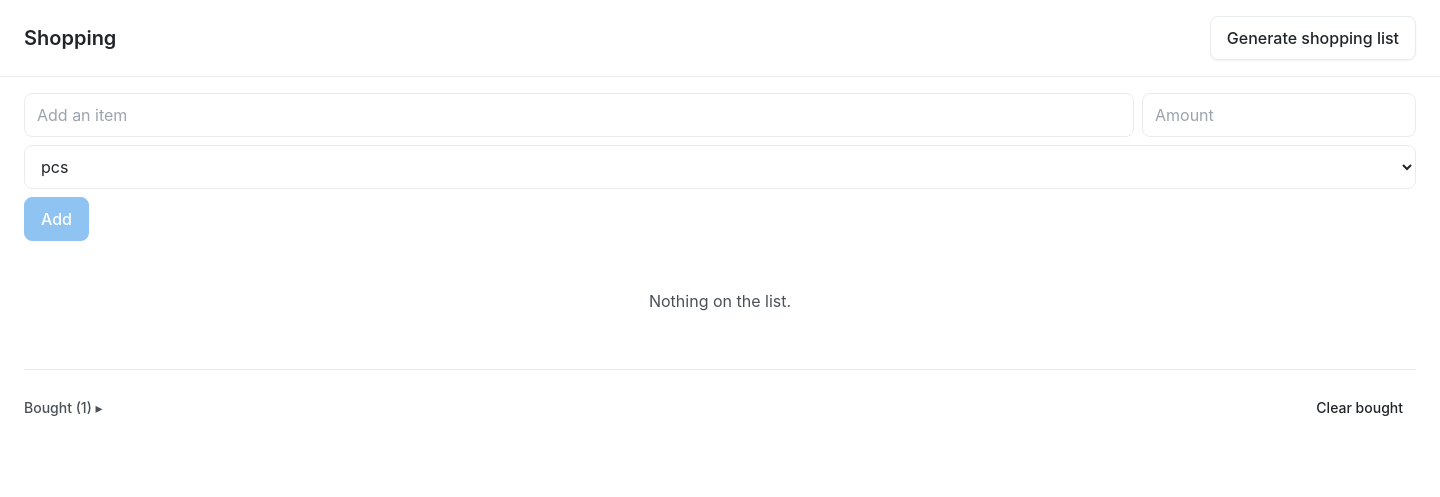
Test: The Shopping screen › expands the bought section on tap
The width and height of the screenshot is (1440, 497).
Click the button "Bought (1) ▸" at (63, 408), box [24,386,103,430]
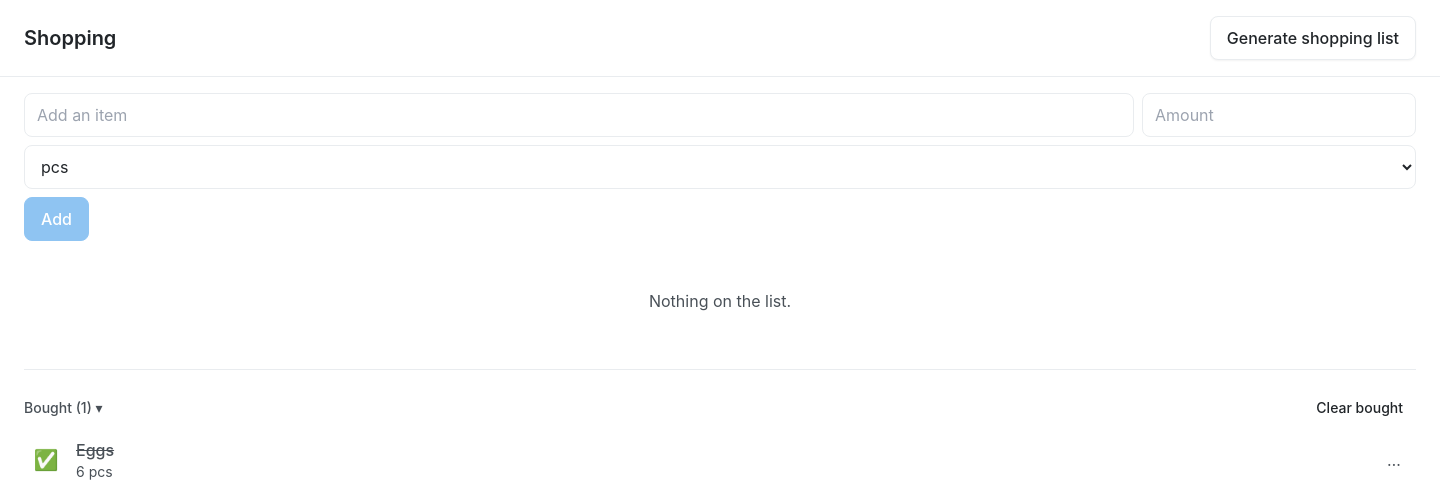
Result: the text "Eggs" is shown at [76,440,114,460]
